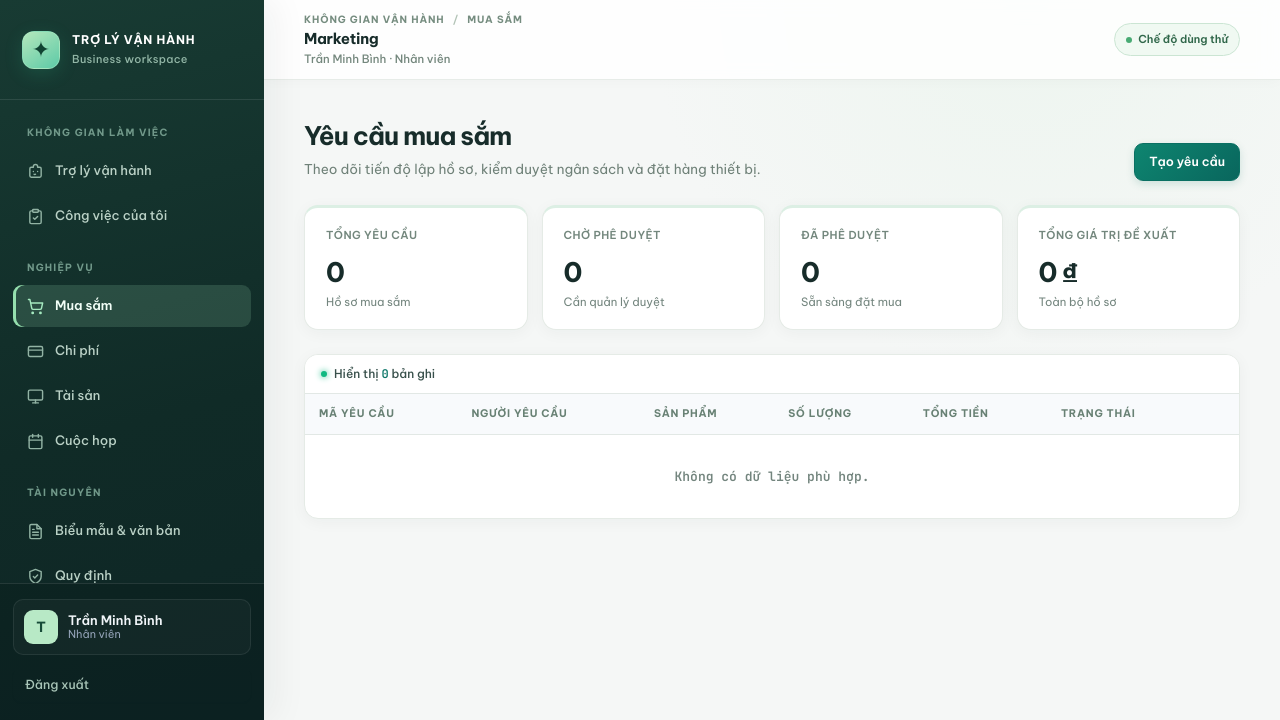
Test: React Procurement integration › reuses the manual create key after a lost response and verifies one saved request
Expected: the text "TRỢ LÝ VẬN HÀNH" is shown, [72, 32, 195, 48]
Click the button "Tạo yêu cầu": (1187, 162) [1134, 143, 1240, 181]
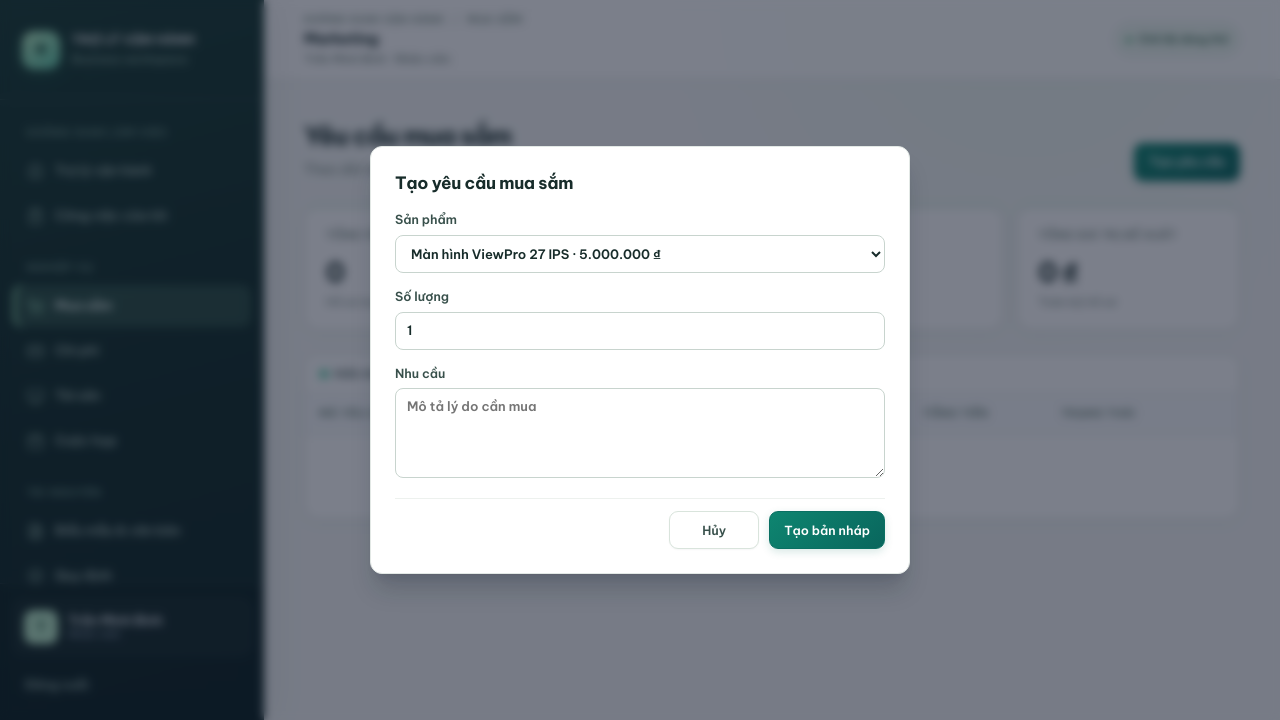
Click the button "Tạo bản nháp": (827, 530) [769, 511, 885, 549]
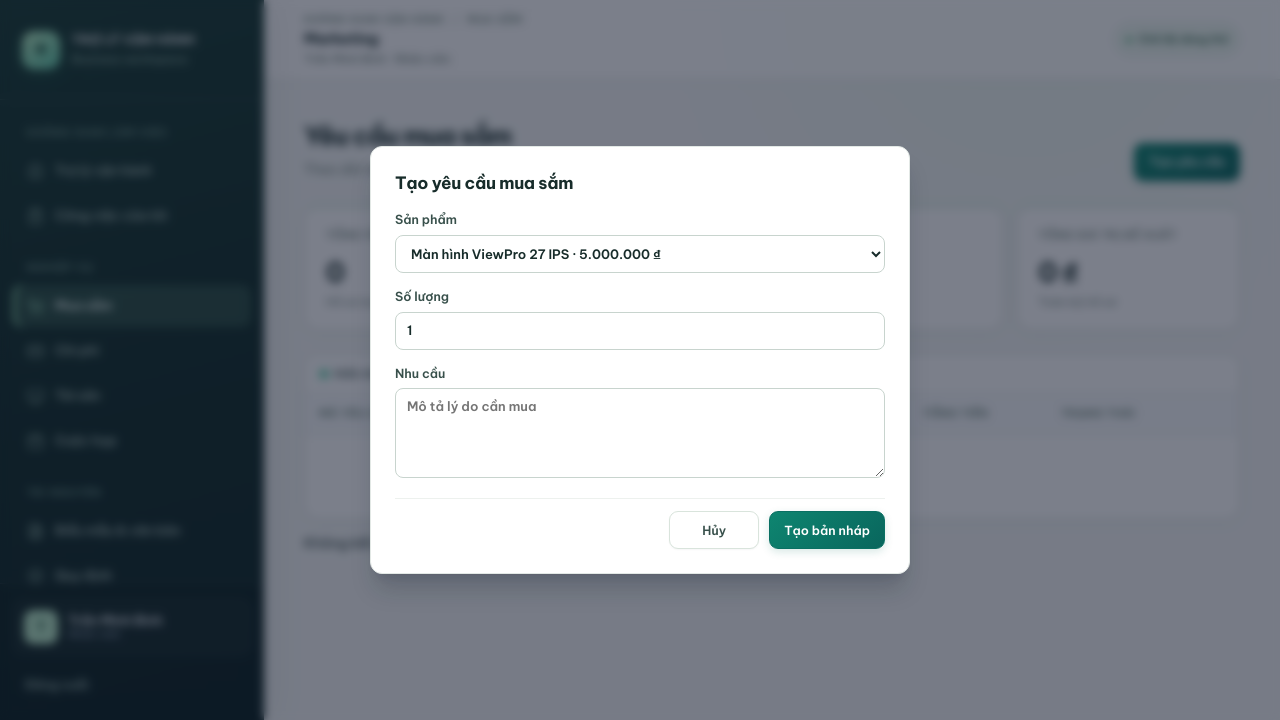
Result: the text "Không kết nối được máy chủ. Vui lòng kiểm tra backend." is shown at [304, 534, 683, 552]
Click the button "Tạo bản nháp": (827, 530) [769, 511, 885, 549]
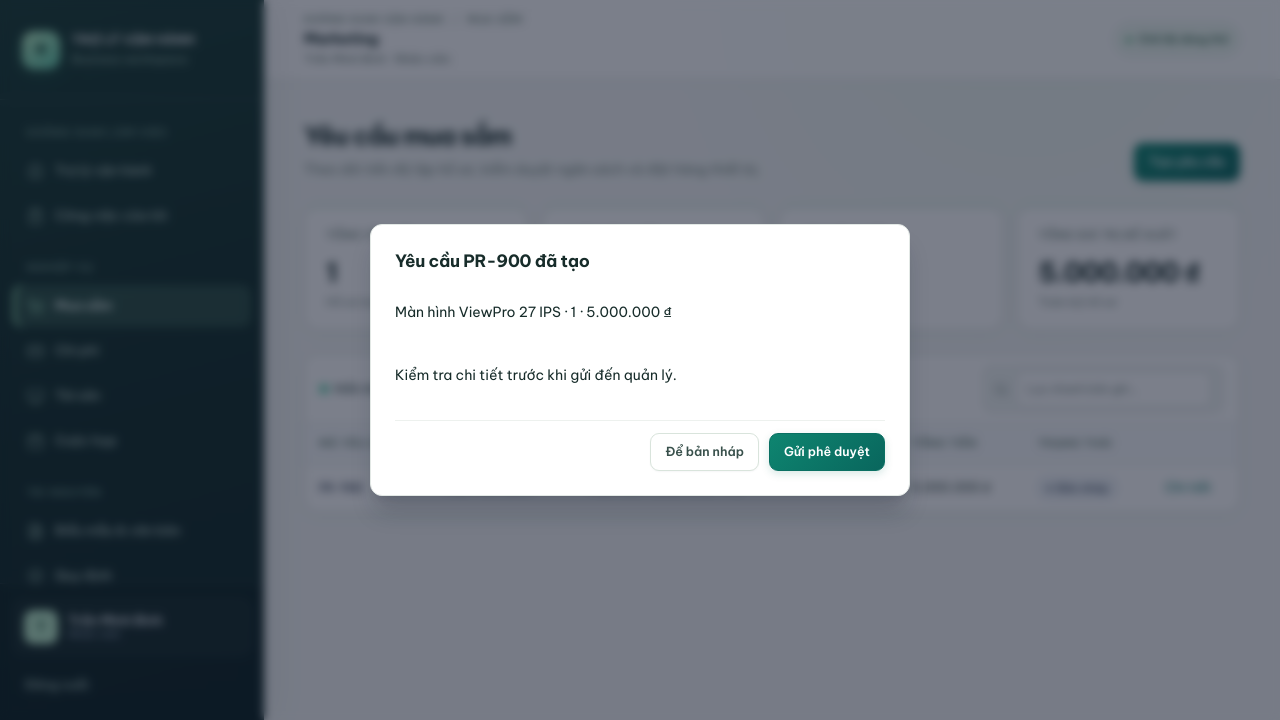
Result: the heading "Yêu cầu PR-900 đã tạo" is shown at [395, 250, 590, 272]
